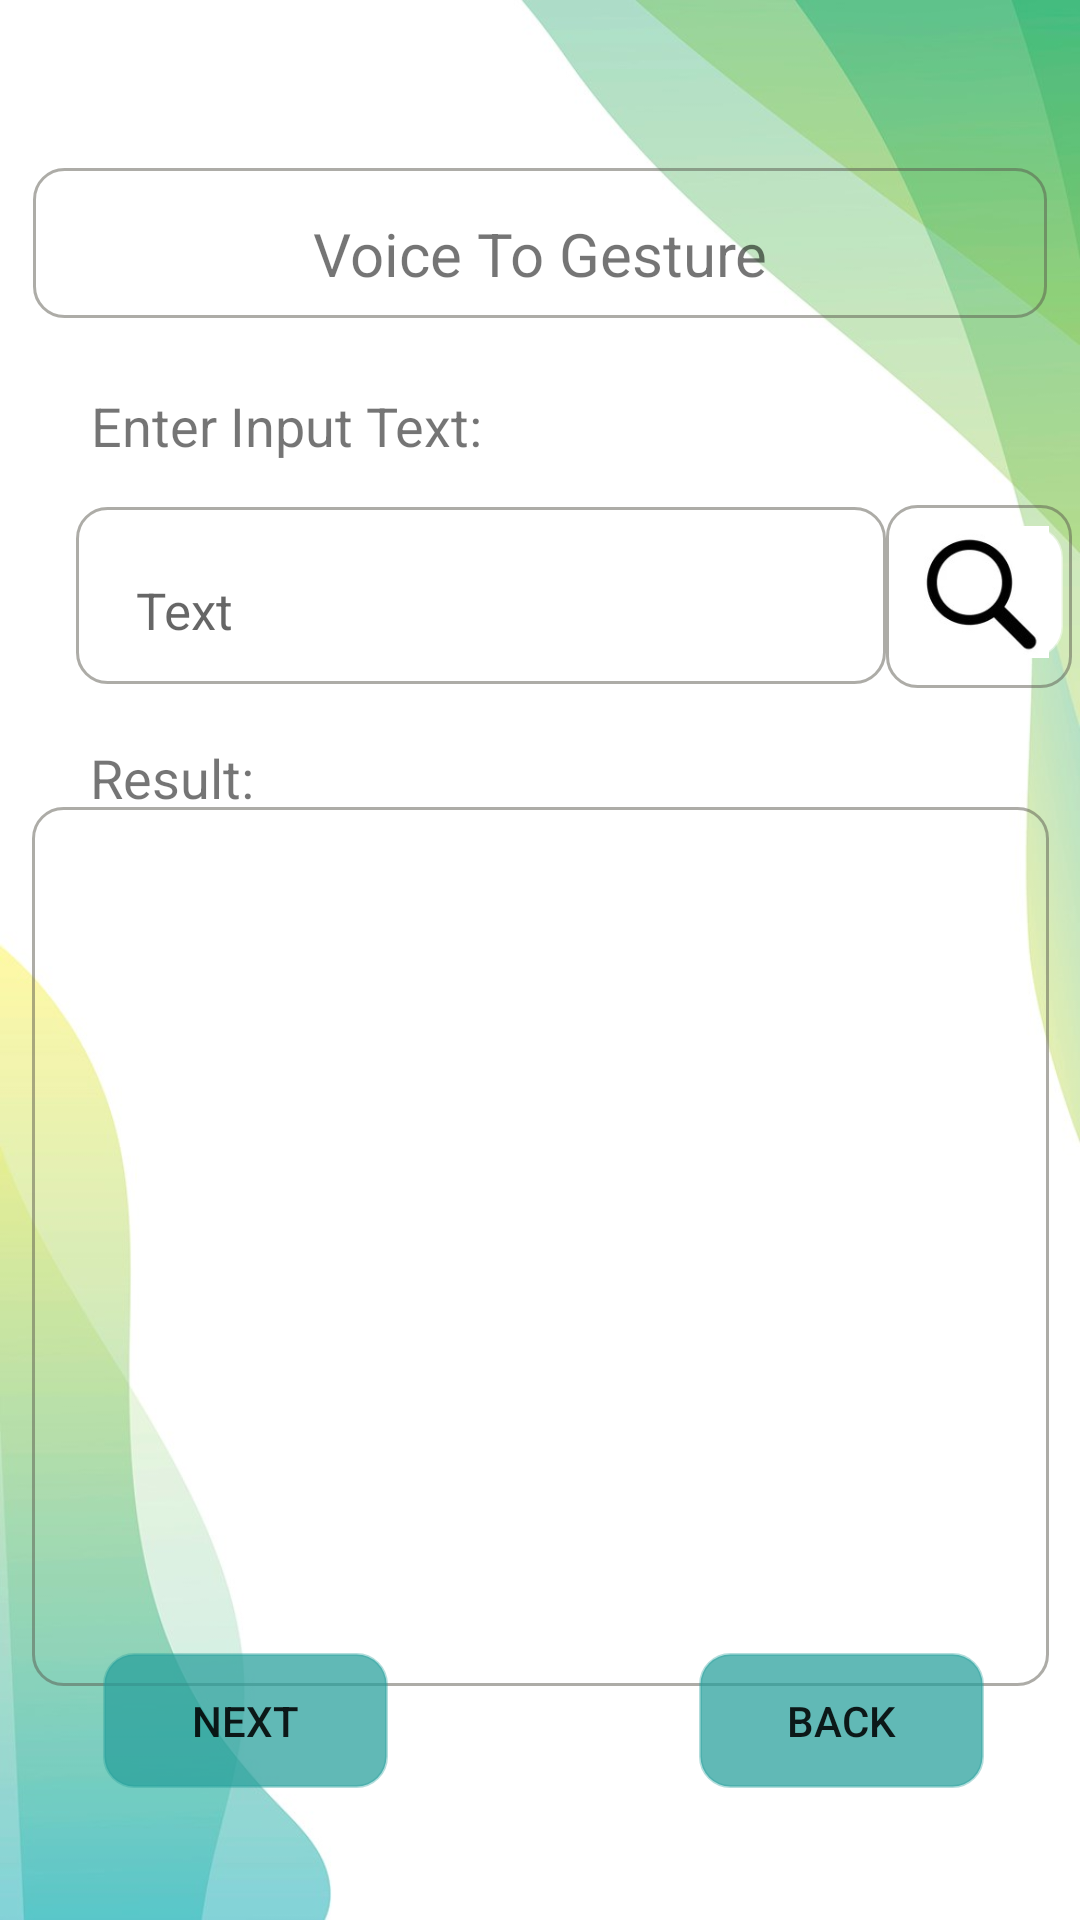

Named icons in this screenshot (1080 × 1920) and their centers, [x,y]:
seachicon: [981,594]
